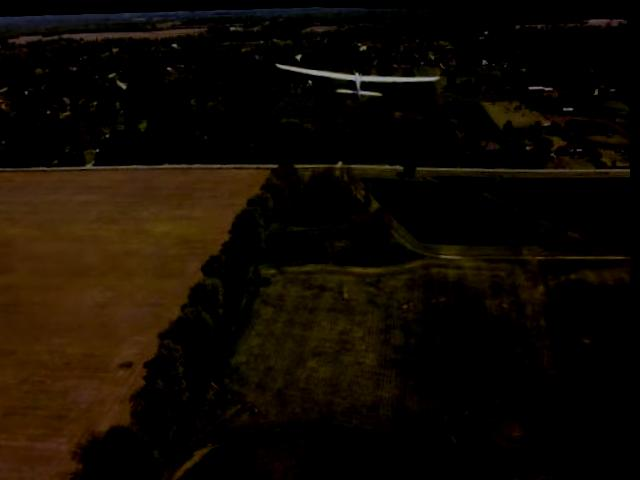uav: (269, 38, 448, 116)
